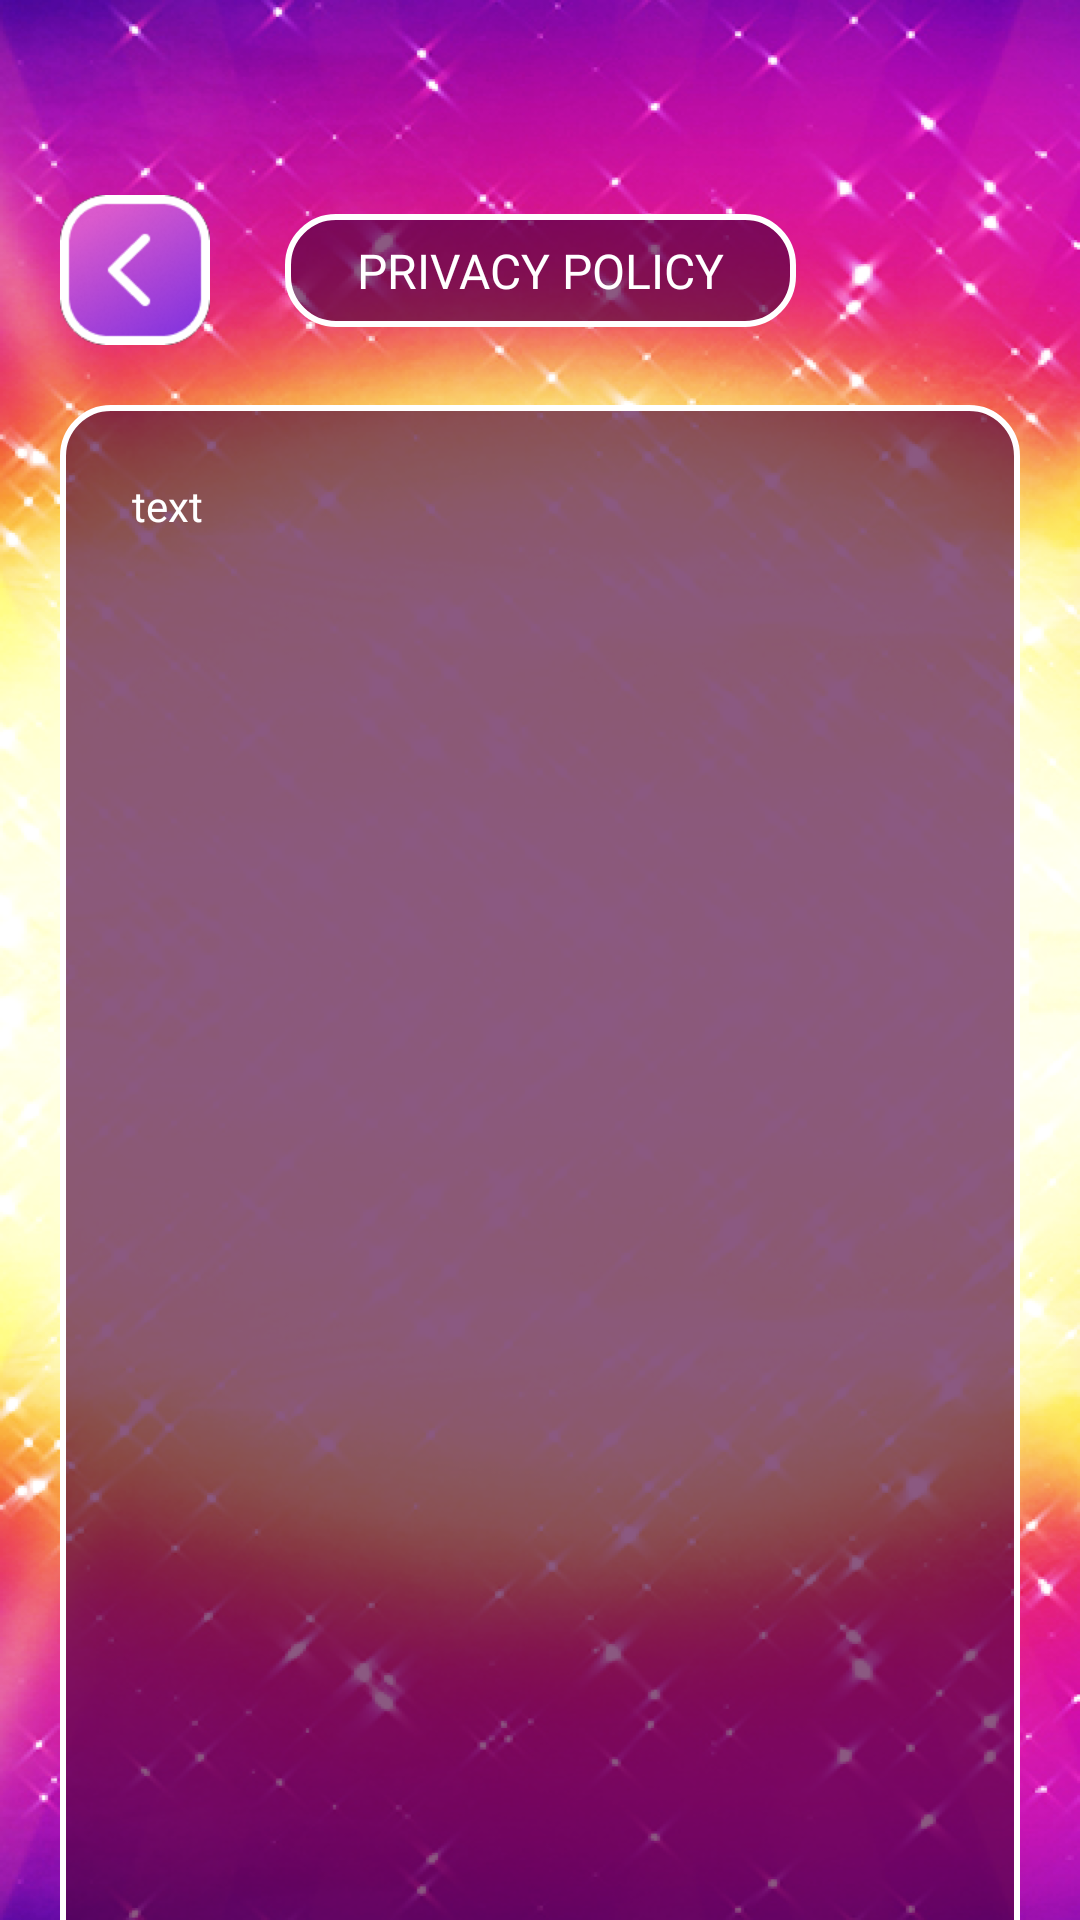

Screen size 1080w x 1920h. Icon name, then its center in pixels as [x,y]:
Back to menu: [135,270]
